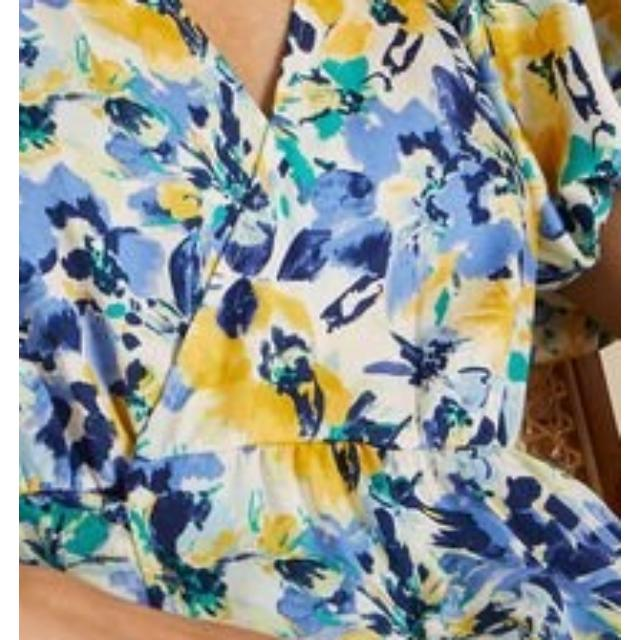polyester: (19, 0, 621, 542)
